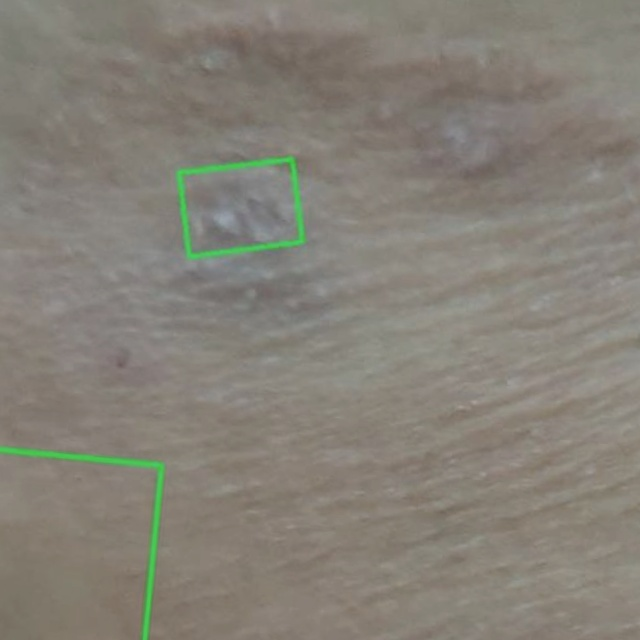Tinea Corporis: (180, 159, 303, 256)
